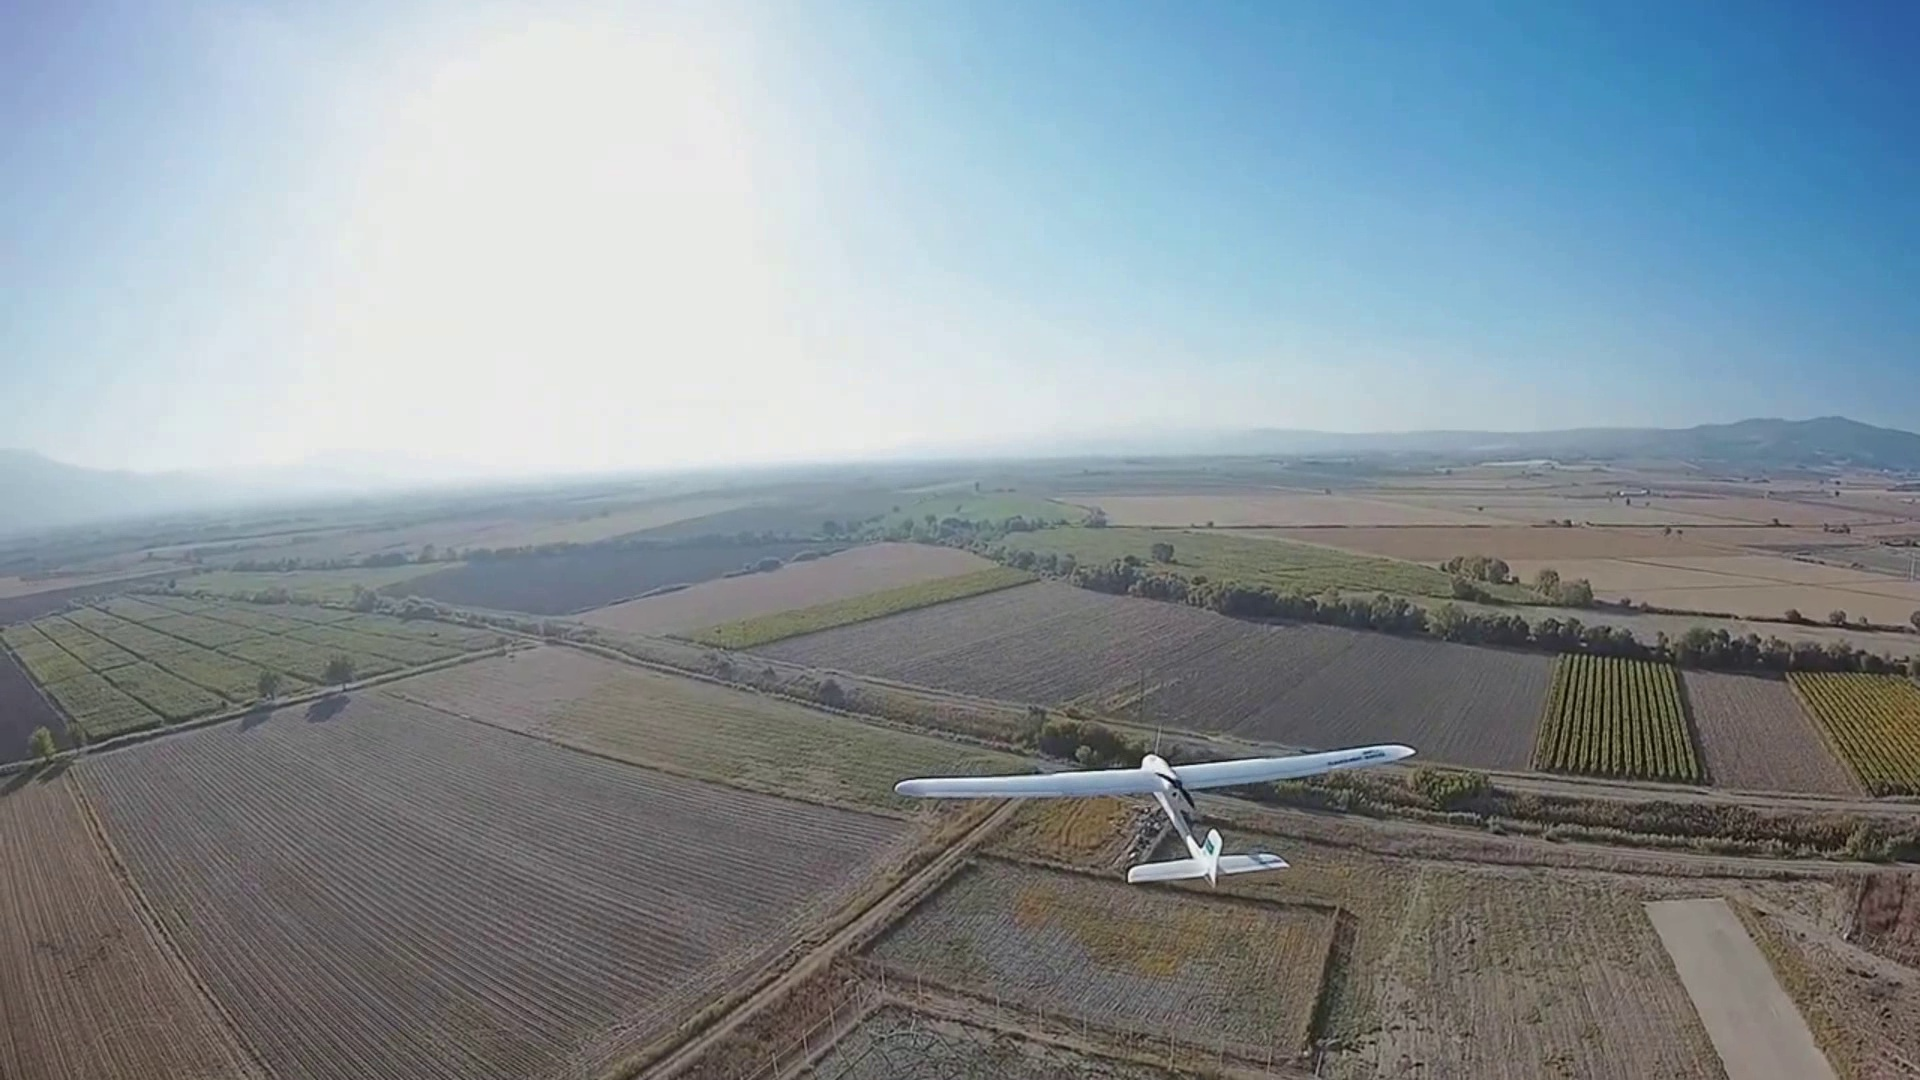airplane: (894, 738, 1420, 889)
